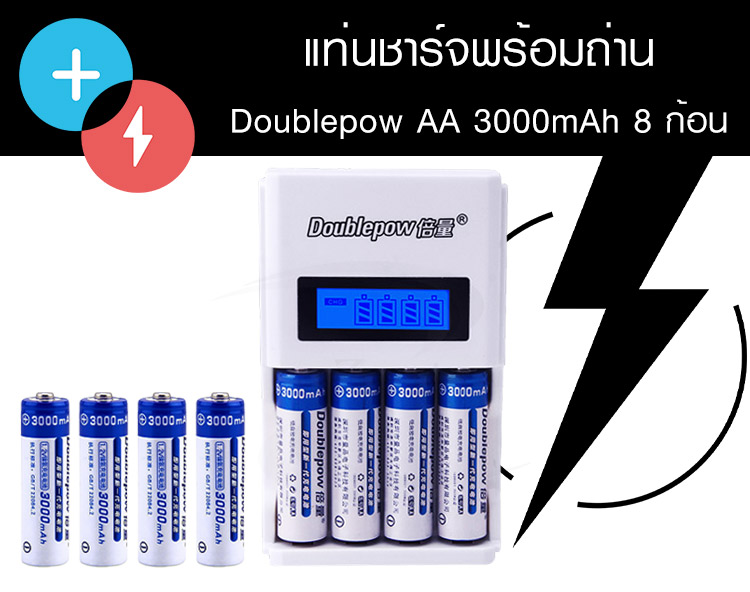Battery: (75, 391, 130, 569), (135, 389, 189, 570), (274, 368, 329, 543), (331, 370, 386, 543), (19, 390, 72, 569), (437, 368, 490, 542), (384, 371, 437, 544), (196, 393, 244, 567)
